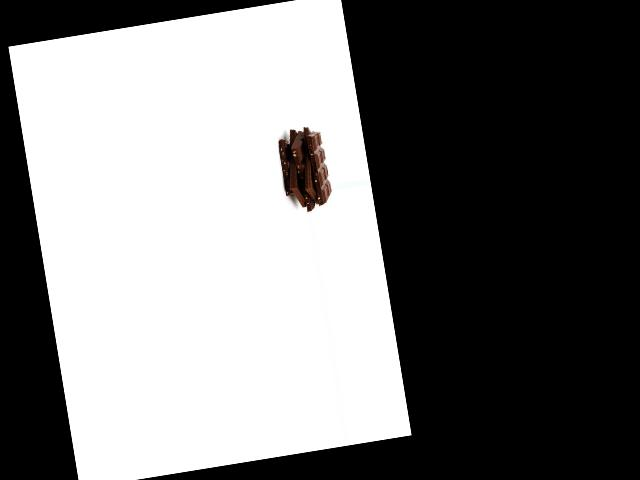chocolate: (271, 129, 314, 210)
